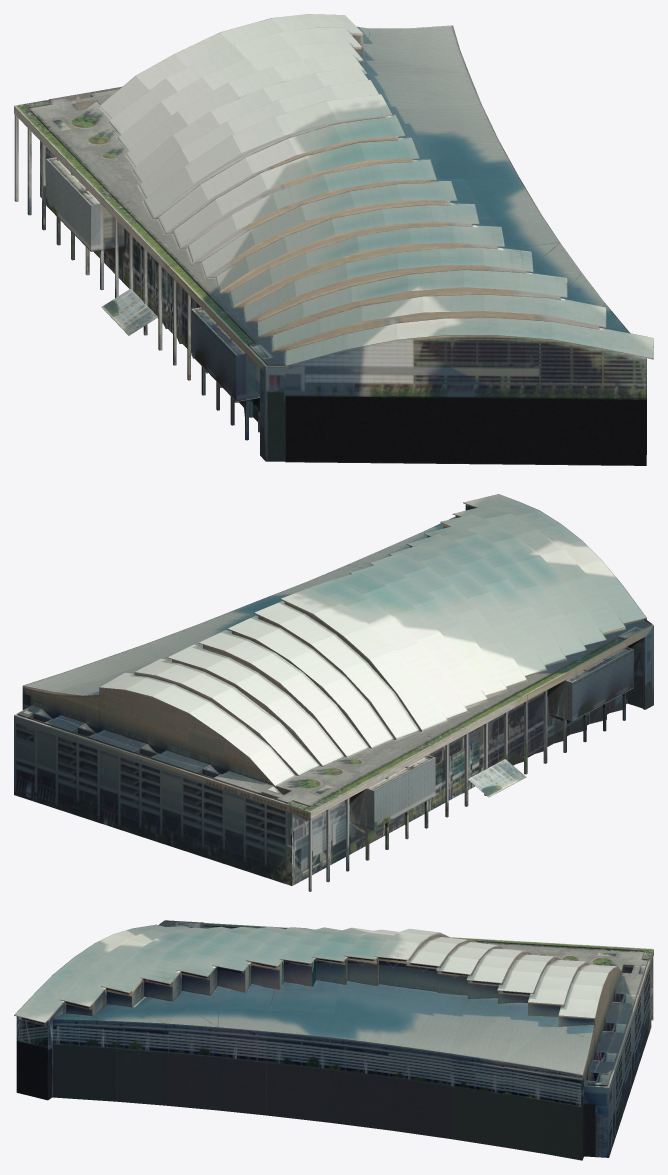
3 renders of one model, top to bottom at view 1: azimuth 30°, elevation 25°; view 2: azimuth 150°, elevation 25°; view 3: azimuth 270°, elevation 25°, orthographic. The views are drawn at different scales.
Visible parts, largest first — view 1: 4_0.glb; view 2: 4_0.glb; view 3: 4_0.glb.
Boxes of the visible parts, x1,y1,x2,y2 form: 4_0.glb: (14,14,653,465); 4_0.glb: (14,494,653,891); 4_0.glb: (14,920,653,1160).
Bounding box in the file's own units: 156 × 56.45 × 247.
1 material, 1 textured.
